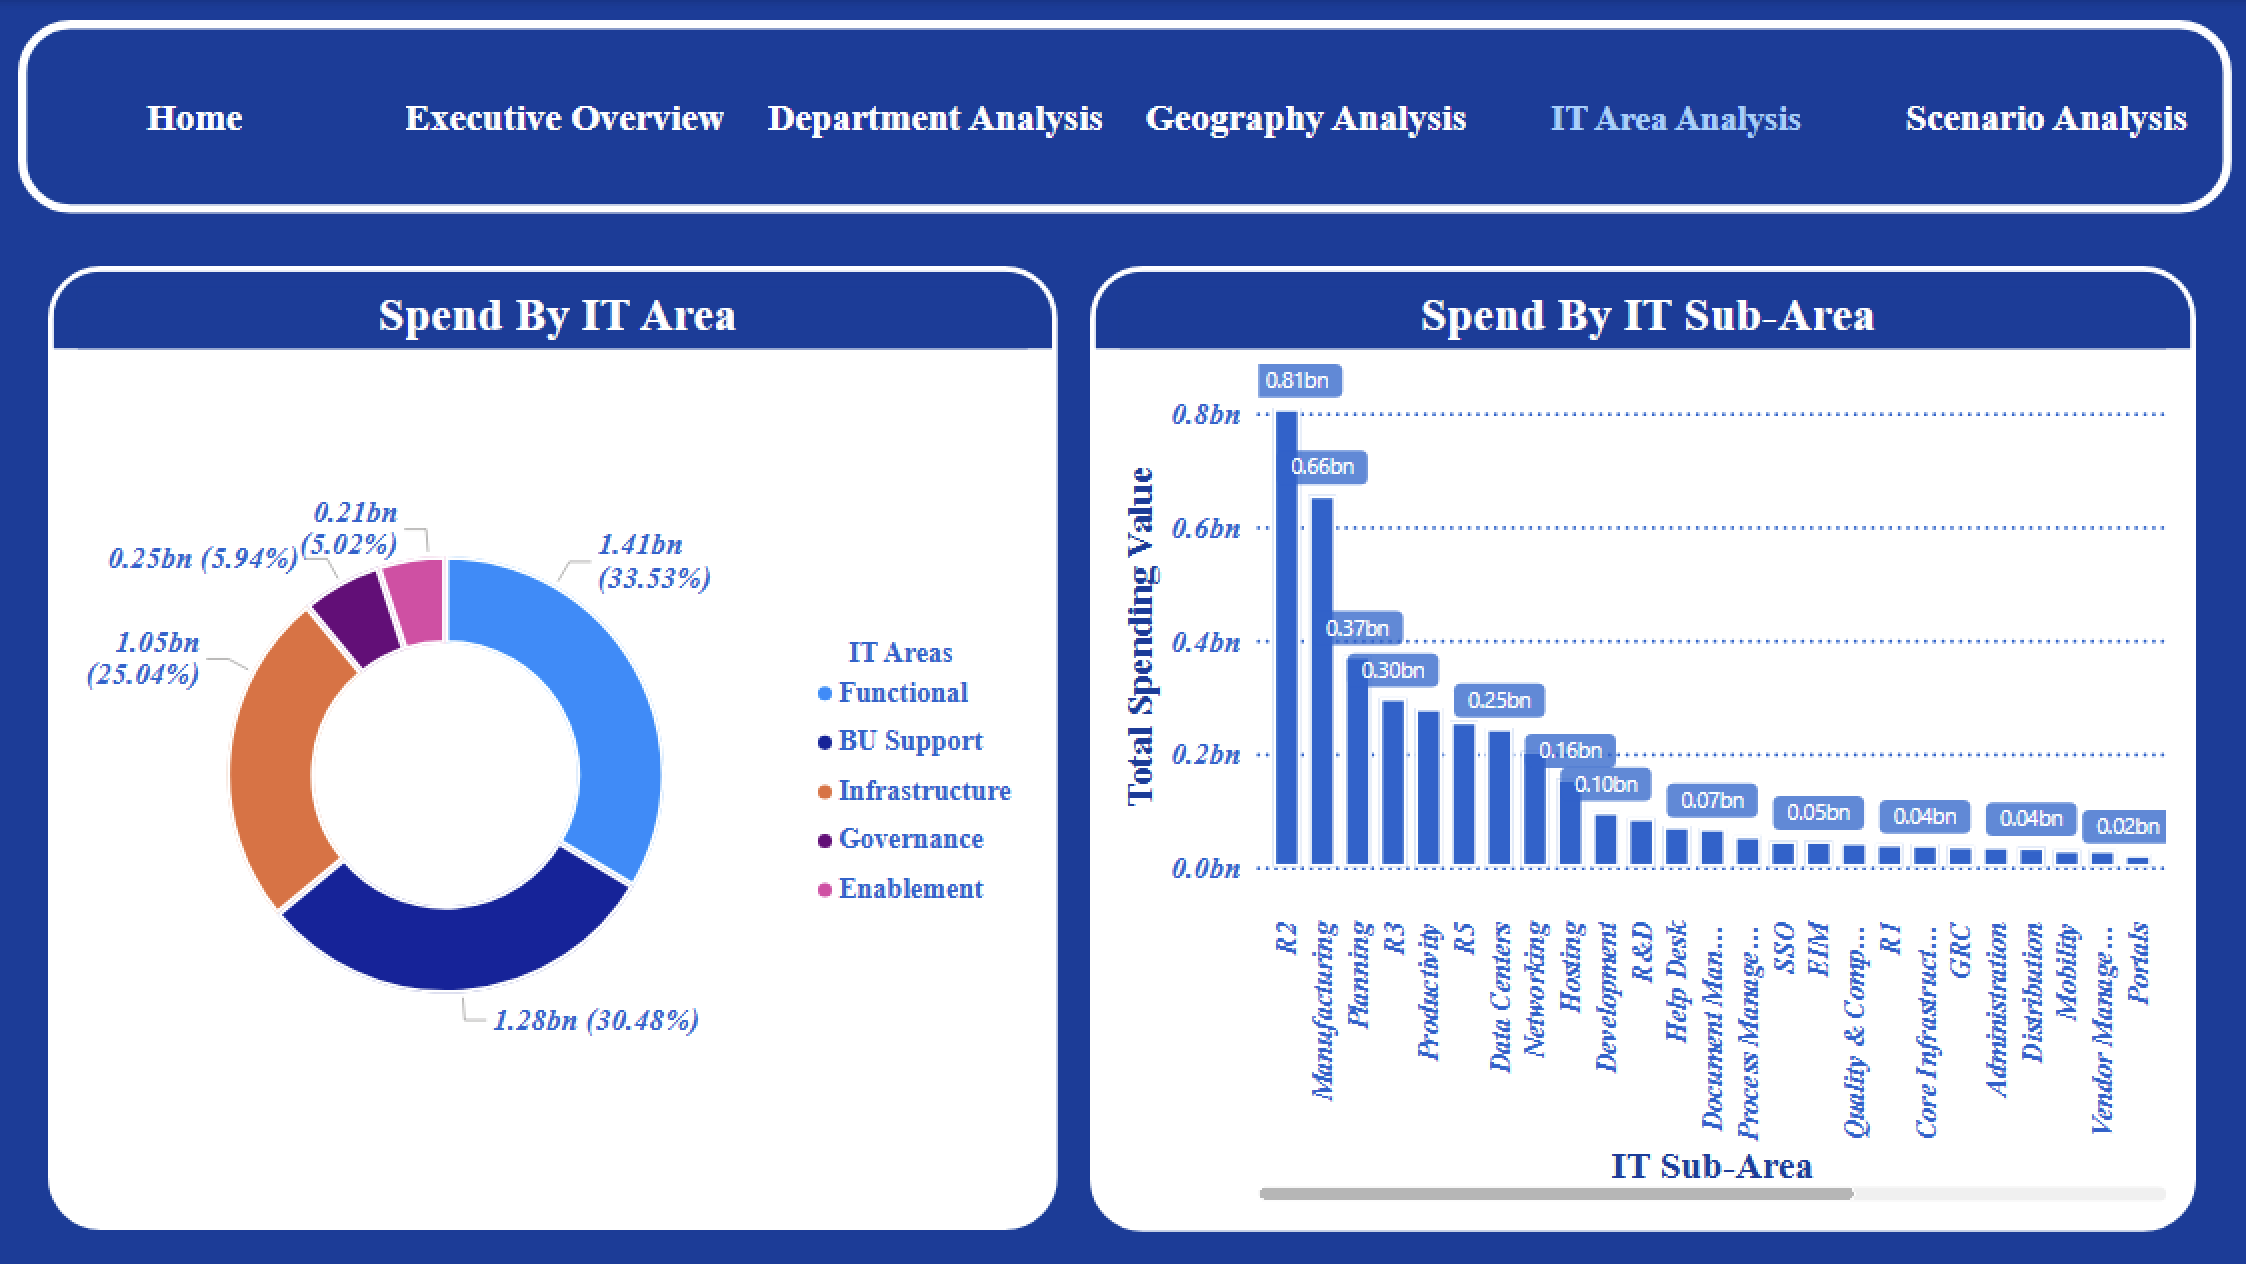

This screenshot's page, from the dashboard's own definition file:
{"tool":"powerbi","page":{"name":"IT Area Analysis","canvas":[1280,720],"ordinal":4},"visuals":[{"type":"textbox","box":[10.2,11.5,1260.9,109.6],"z":0},{"type":"columnChart","title":"Spend By IT Sub-Area","fields":{"Y":["Sum(Transaction.Transaction Value)"],"Category":["IT Sector.IT Sub-Area"]},"box":[620.8,151.9,630.1,549.5],"z":2000},{"type":"donutChart","title":"Spend By IT Area","fields":{"Category":["IT Sector.IT Area"],"Y":["Sum(Transaction.Transaction Value)"]},"box":[26.8,151.7,575,549.5],"z":3000},{"type":"pageNavigator","box":[10.7,24.9,1259.9,85.3],"z":4000}]}

Visuals, with their boxes in screenshot pixels (x1, y1, x2, y2), scaled from the page's 1280x720 canvas onto the 2246x1264 screenshot:
textbox: [left=18, top=20, right=2230, bottom=213]
"Spend By IT Sub-Area" columnChart: [left=1089, top=267, right=2195, bottom=1231]
"Spend By IT Area" donutChart: [left=47, top=266, right=1056, bottom=1231]
pageNavigator: [left=19, top=44, right=2230, bottom=193]
